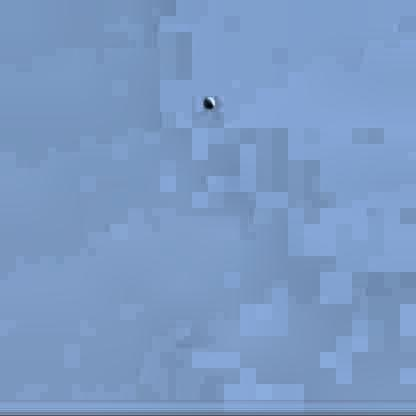golfball: (200, 94, 213, 107)
